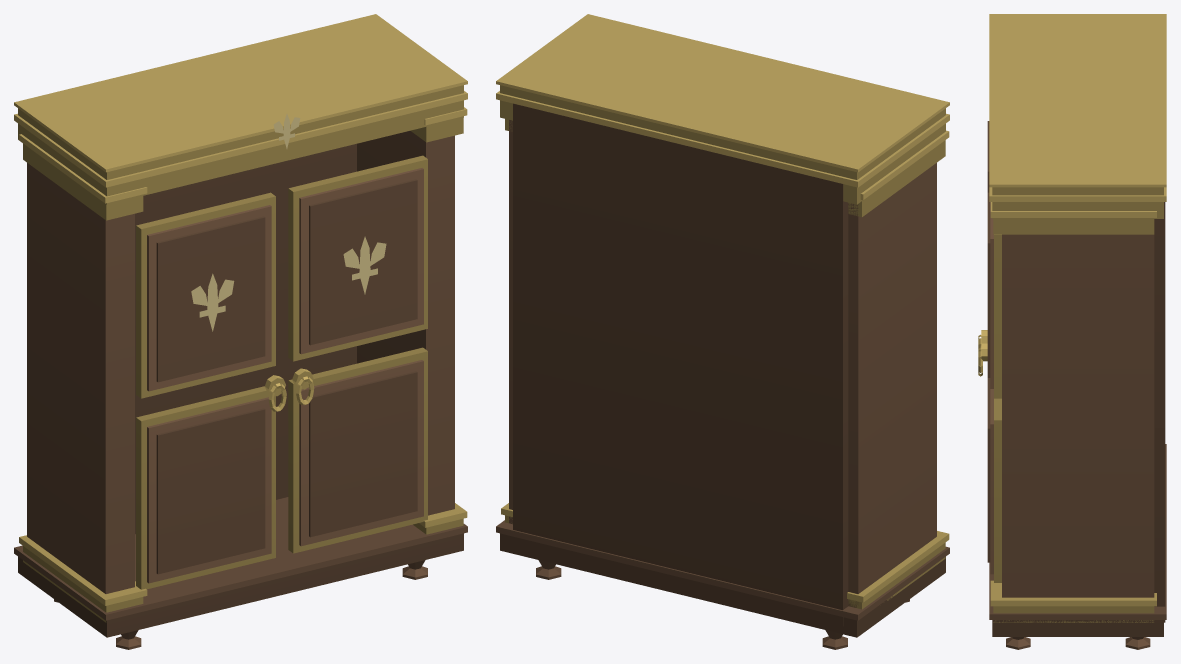
File: palace_wardrobe.glb
3 views of the same model, side by side, from view 1: azimuth 30°, elevation 25°; view 2: azimuth 150°, elevation 25°; view 3: azimuth 270°, elevation 25° (orthographic). The views are drawn at different scales.
Visible parts, largest first — view 1: palace_wardrobe; view 2: palace_wardrobe; view 3: palace_wardrobe.
Part boxes in pixels (left/top/right/bottom): palace_wardrobe: left=14, top=14, right=467, bottom=649; palace_wardrobe: left=496, top=14, right=949, bottom=649; palace_wardrobe: left=978, top=14, right=1166, bottom=649.
Size of the model in its own units: 1.86 by 2.48 by 0.8669.
